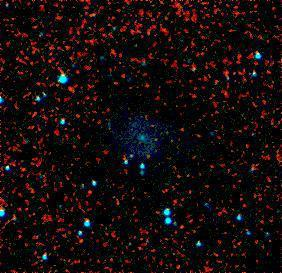star: (168, 213, 198, 243)
